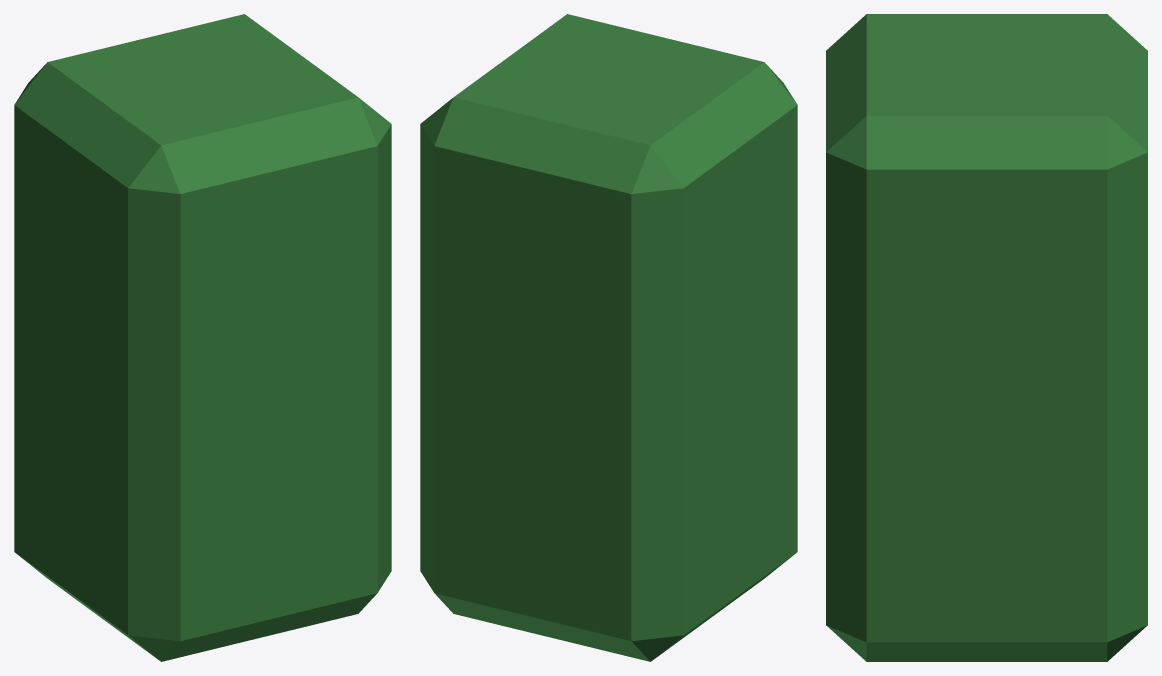
Rendered from m_kub_dung_miniCube_big.fbx.
3 views of the same model, side by side, from view 1: azimuth 30°, elevation 25°; view 2: azimuth 150°, elevation 25°; view 3: azimuth 270°, elevation 25° (orthographic). The views are drawn at different scales.
Visible parts, largest first — view 1: m_kub_dung_miniCube_big; view 2: m_kub_dung_miniCube_big; view 3: m_kub_dung_miniCube_big.
Boxes of the visible parts, box(x1,y1,x2,y2) form: m_kub_dung_miniCube_big: box(14, 14, 391, 661); m_kub_dung_miniCube_big: box(420, 14, 797, 661); m_kub_dung_miniCube_big: box(826, 14, 1147, 661).
Bounding box in the file's own units: 1.15 × 2.15 × 1.15.
